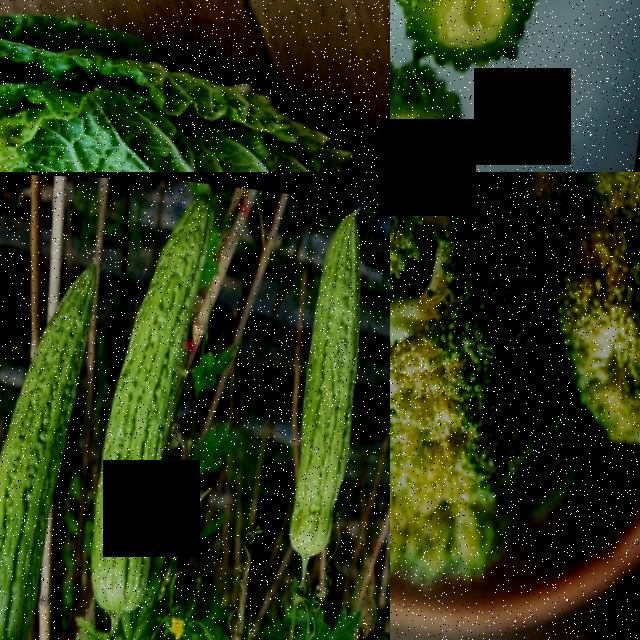bitter gourd: (69, 182, 220, 609), (269, 192, 388, 547), (0, 251, 93, 640), (390, 0, 555, 76), (390, 81, 463, 172)
broccoli: (390, 275, 561, 497), (560, 172, 640, 438)
cabbage: (0, 0, 390, 172)
